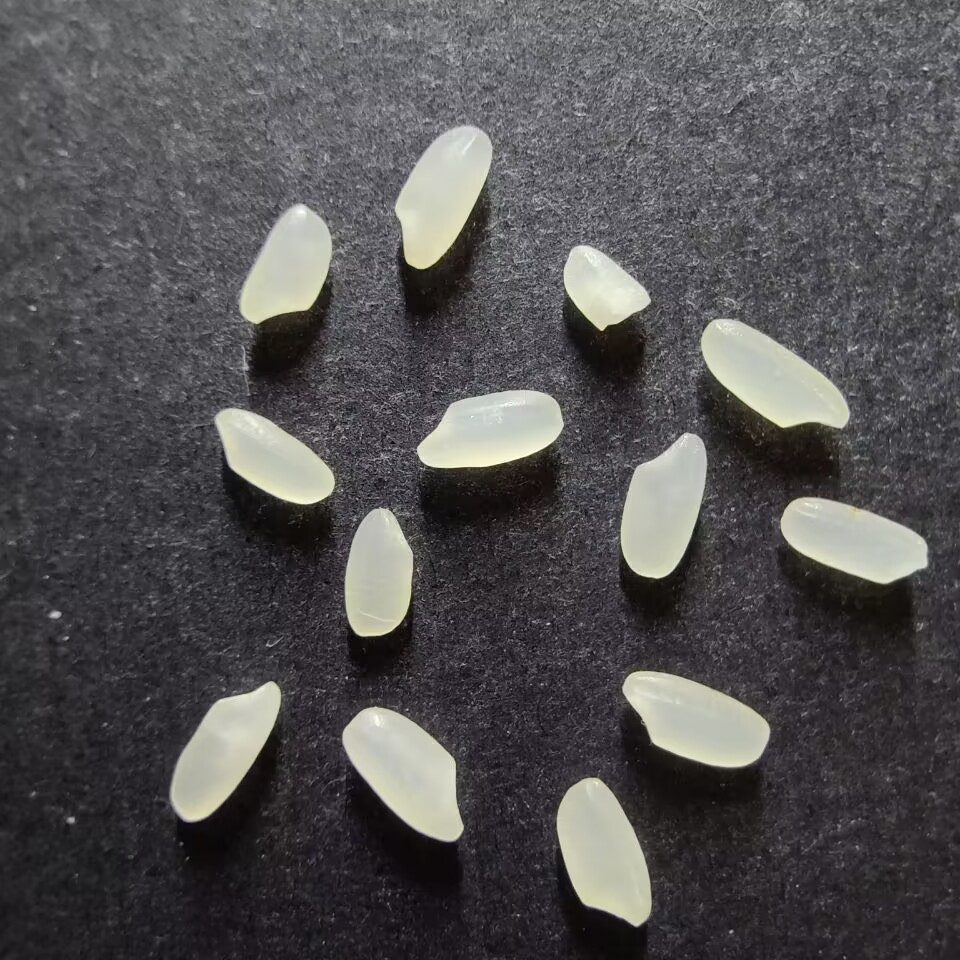broken: (562, 244, 650, 331)
rice: (341, 706, 464, 842), (700, 318, 850, 429), (169, 680, 281, 823), (555, 776, 652, 927), (621, 670, 770, 768), (393, 126, 492, 269), (780, 496, 928, 585), (619, 432, 706, 579), (213, 407, 335, 505), (416, 389, 563, 469), (239, 204, 331, 324), (343, 507, 413, 637)
